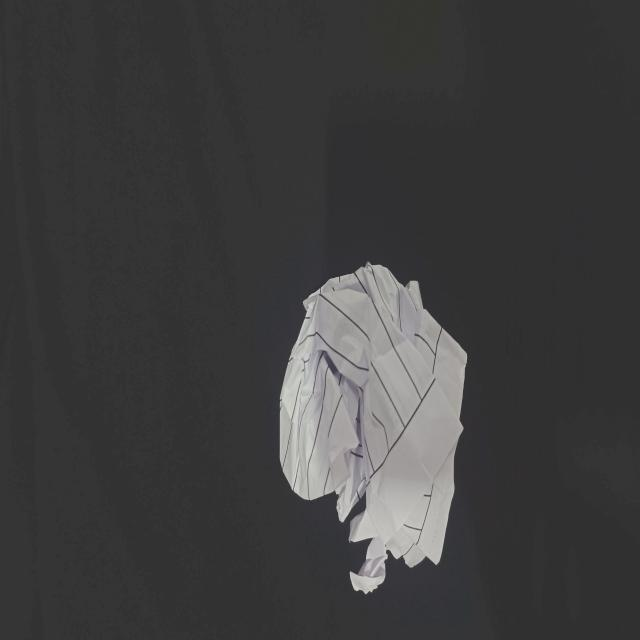PaperBall: (272, 255, 469, 605), (285, 287, 369, 479), (349, 522, 388, 588)
